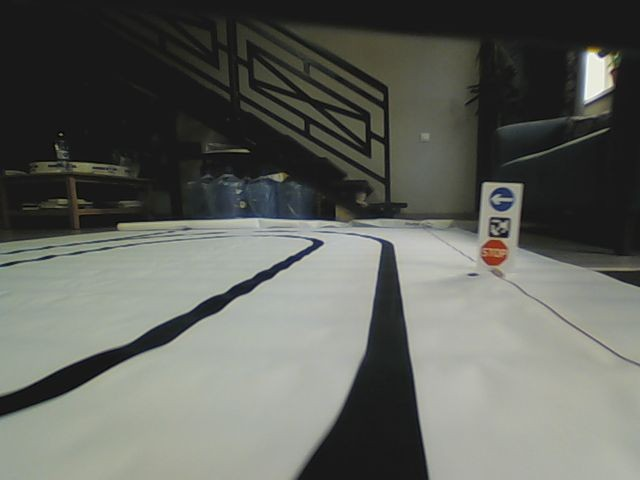Stop: (481, 241, 509, 267)
